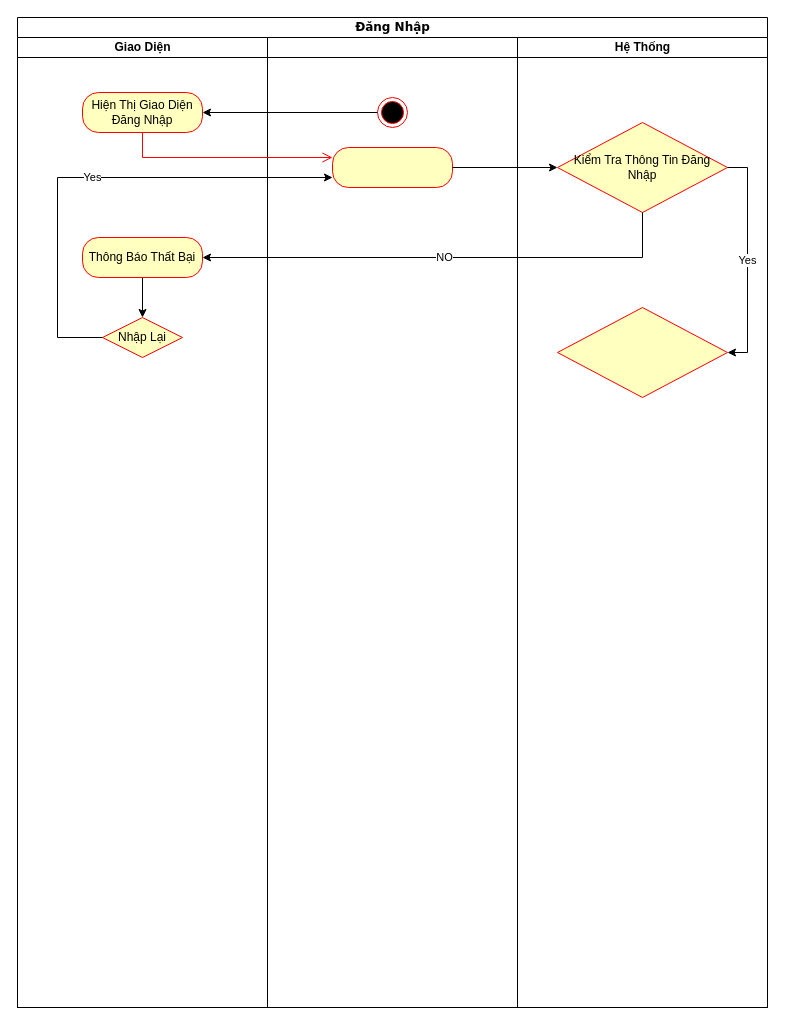
This 785x1025 diagram has some shape labels left out. Each missing label, with the box of its shape:
Kết Nối CSDL: (556, 306, 728, 398)
Nhập Thông tin đăng Nhập: (332, 146, 452, 188)
User: (266, 36, 518, 1008)
